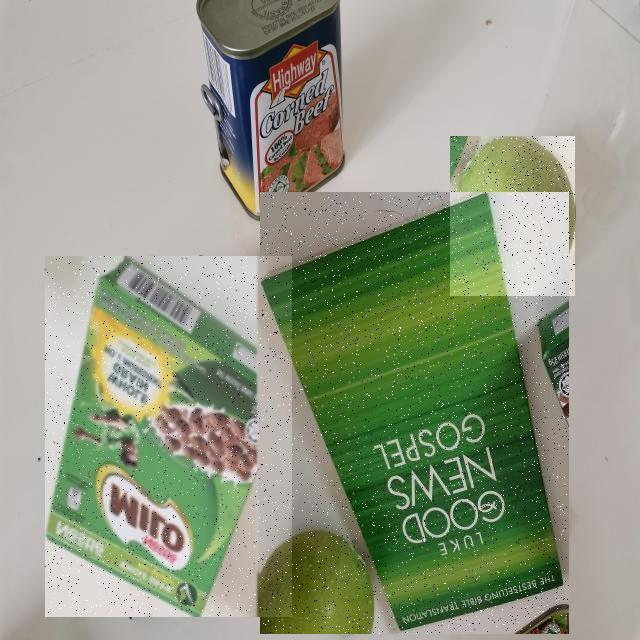Apple: (450, 136, 575, 296)
Book: (260, 192, 569, 634)
Cereal: (46, 256, 292, 617)
